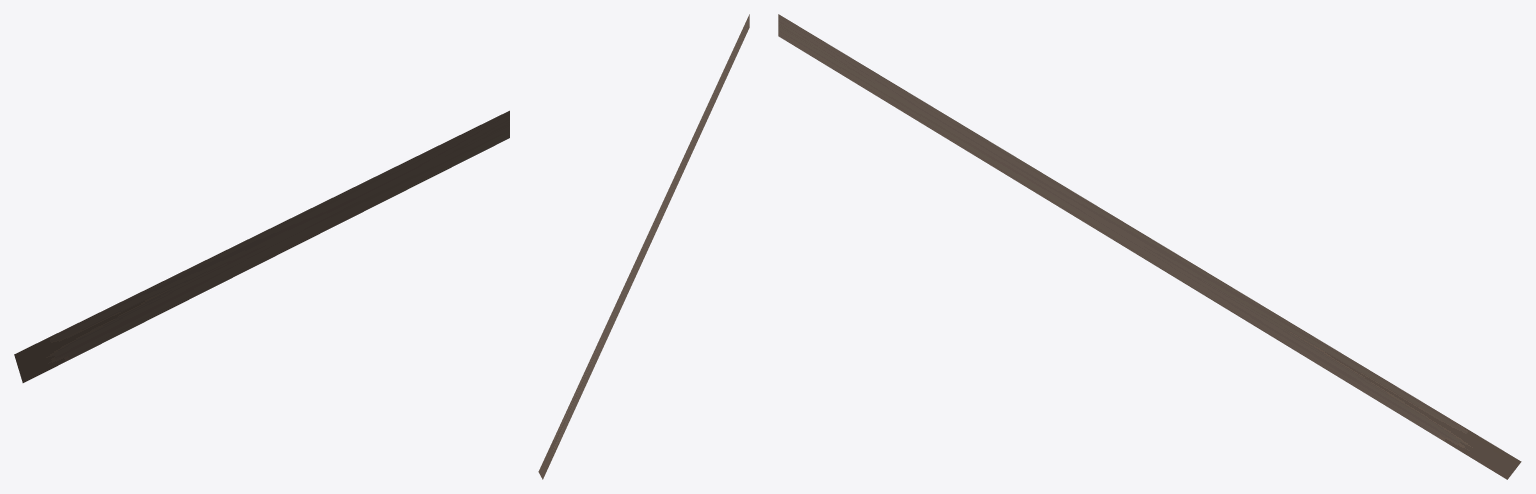
Rendered from kd_stage_135c43_4_51_bounded_piece_3.glb.
3 renders of one model, left to right at view 1: azimuth 30°, elevation 25°; view 2: azimuth 150°, elevation 25°; view 3: azimuth 270°, elevation 25°, orthographic. The views are drawn at different scales.
Parts seen in each view (by area): view 1: kd_stage_135c43_4_51_bounded_piece_3; view 2: kd_stage_135c43_4_51_bounded_piece_3; view 3: kd_stage_135c43_4_51_bounded_piece_3.
Part boxes in pixels (box(x1,y1,x2,y2)): kd_stage_135c43_4_51_bounded_piece_3: box(14, 110, 509, 382); kd_stage_135c43_4_51_bounded_piece_3: box(538, 14, 749, 479); kd_stage_135c43_4_51_bounded_piece_3: box(778, 14, 1521, 479).
Size of the model in its own units: 0.0308 by 0.4756 by 0.6666.
1 material, 1 textured.
